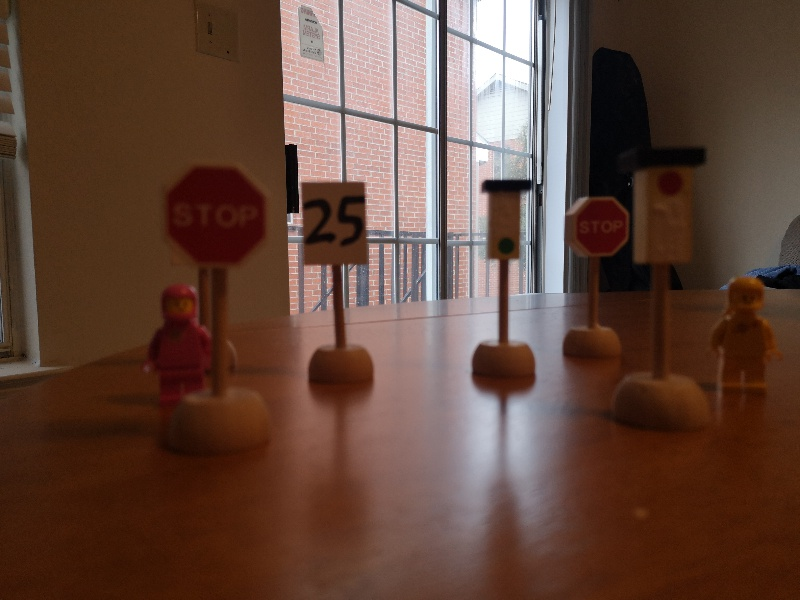Green Traffic Light: (477, 177, 533, 264)
Person: (140, 285, 212, 406), (712, 277, 782, 396)
Red Traffic Light: (626, 146, 710, 263)
Speed Limit 25: (299, 180, 370, 267)
Stop Sign: (165, 163, 270, 268), (563, 196, 632, 259)
